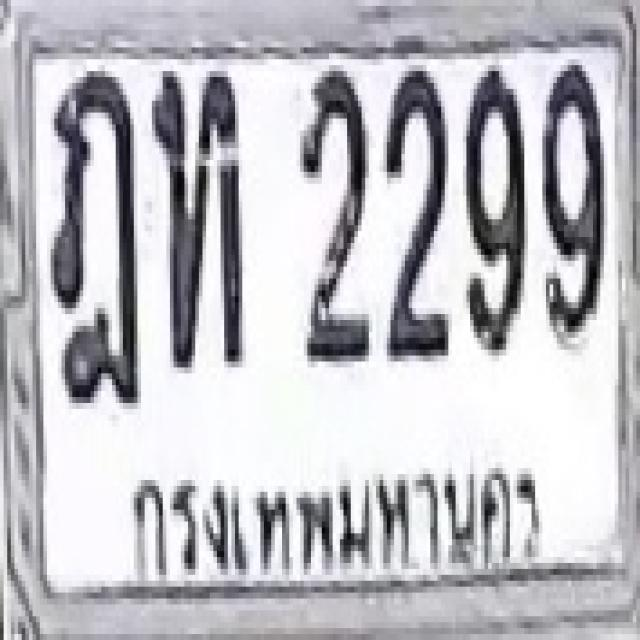2: (298, 65, 367, 362), (384, 62, 448, 359)
9: (539, 56, 604, 341), (463, 65, 524, 350)
A14: (47, 62, 137, 406)
A23: (152, 65, 242, 368)
BKK: (110, 445, 552, 585)
